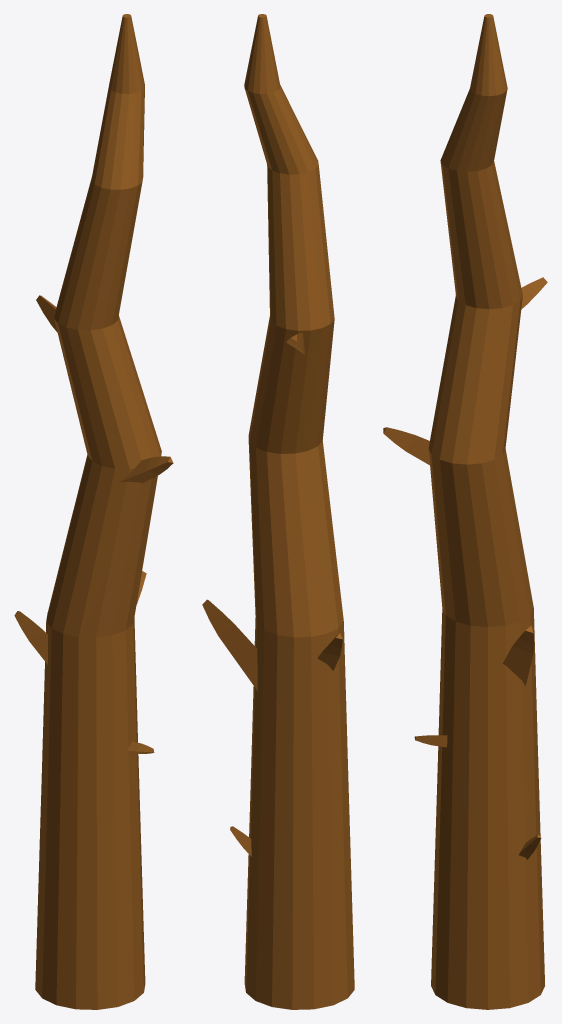
Rendered from SIGNPOST_POST.fbx.
The picture shows the model from 3 angles, left to right: view 1: azimuth 30°, elevation 25°; view 2: azimuth 150°, elevation 25°; view 3: azimuth 270°, elevation 25°; orthographic projection. The views are drawn at different scales.
Parts seen in each view (by area): view 1: Cylinder; view 2: Cylinder; view 3: Cylinder.
Part boxes in pixels (left/top/right/bottom): Cylinder: left=14, top=14, right=173, bottom=1009; Cylinder: left=202, top=14, right=354, bottom=1009; Cylinder: left=383, top=14, right=547, bottom=1009.
Bounding box in the file's own units: 103 × 705 × 106.
